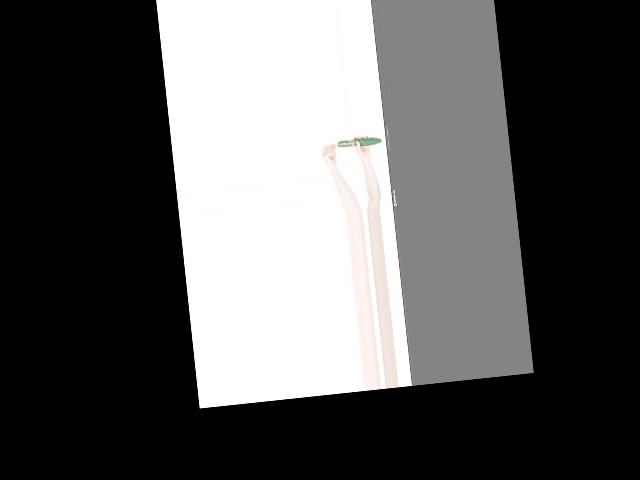cucumber: (337, 135, 383, 147)
